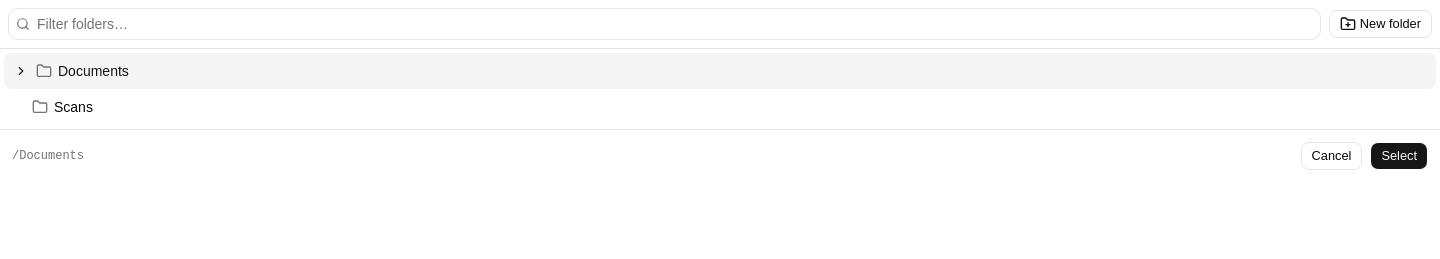
Test case: FolderPickerBody › creates a new folder under the selected node and immediately selects it
Expected: the list item "Documents" is shown, top-left (4, 53), bottom-right (1436, 89)
Click the button "New folder": [1380, 24] box top-left (1329, 10), bottom-right (1432, 38)
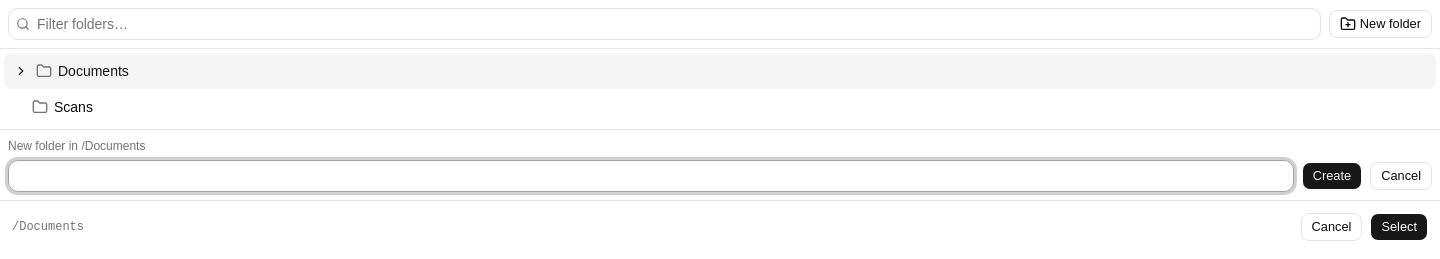
In the field named "New folder name": [651, 176] box top-left (8, 160), bottom-right (1294, 192), type "Archive"
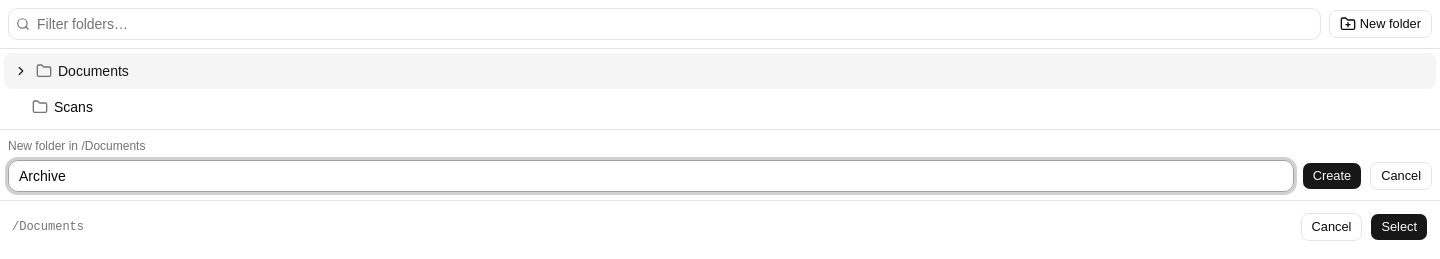
Click the button "Create": [1332, 176] box top-left (1302, 162), bottom-right (1362, 190)
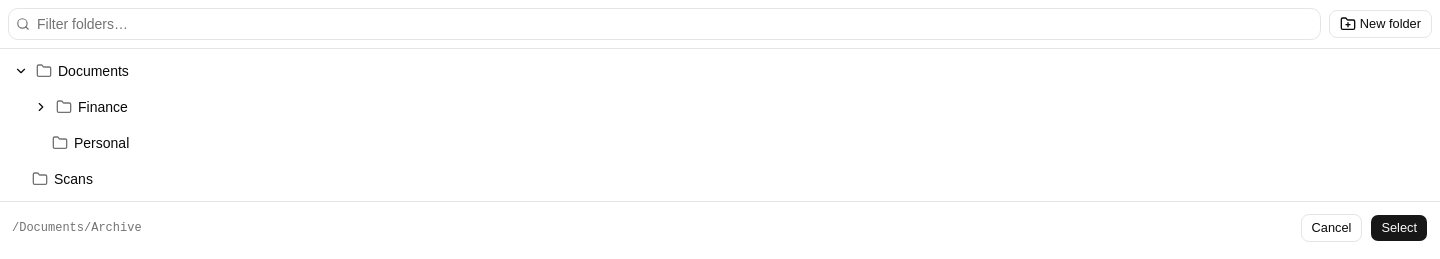
Result: the text titled "/Documents/Archive" is shown at top-left (12, 221), bottom-right (142, 235)
